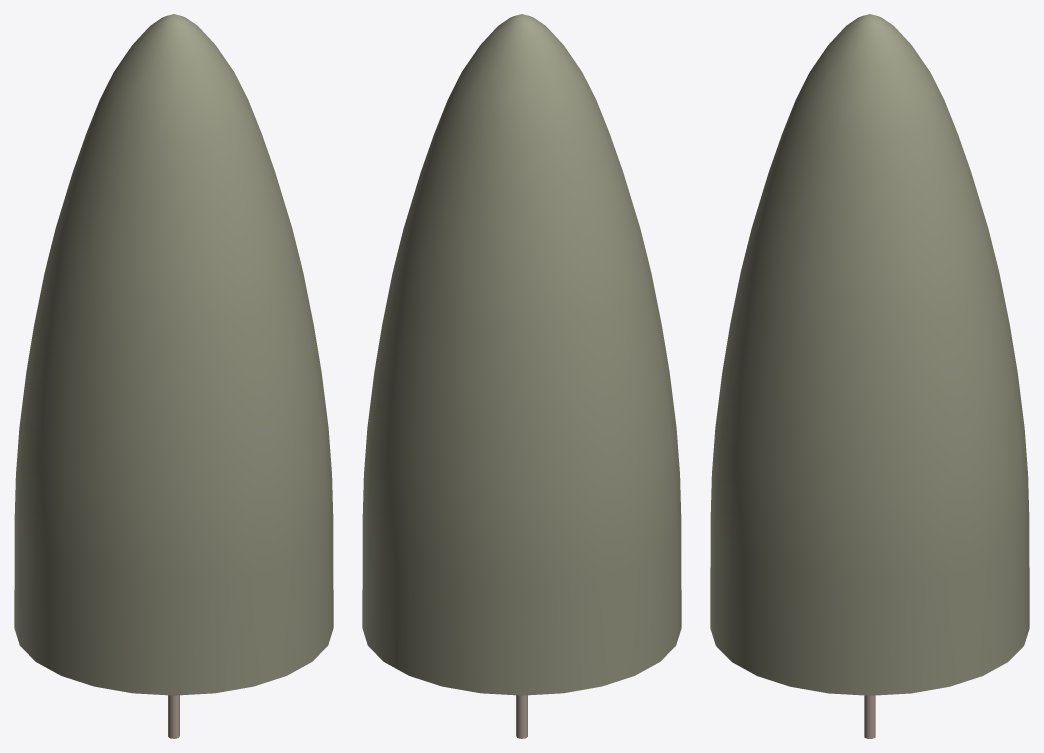
The model's file is CasuarinaEquisetifolia.glb.
The picture shows the model from 3 angles, left to right: view 1: azimuth 30°, elevation 25°; view 2: azimuth 150°, elevation 25°; view 3: azimuth 270°, elevation 25°; orthographic projection.
Parts seen in each view (by area): view 1: Australian_Pine__Schematic_LOD3; view 2: Australian_Pine__Schematic_LOD3; view 3: Australian_Pine__Schematic_LOD3.
Part boxes in pixels (bbox=[...]): Australian_Pine__Schematic_LOD3: bbox=[14, 14, 333, 738]; Australian_Pine__Schematic_LOD3: bbox=[362, 14, 681, 738]; Australian_Pine__Schematic_LOD3: bbox=[710, 14, 1029, 738].
Bounding box in the file's own units: 8.04 × 20.08 × 8.04.
